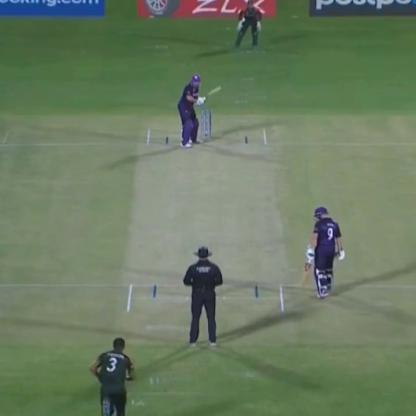bat: (199, 76, 228, 105), (298, 250, 316, 293)
pitch: (117, 124, 293, 327)
